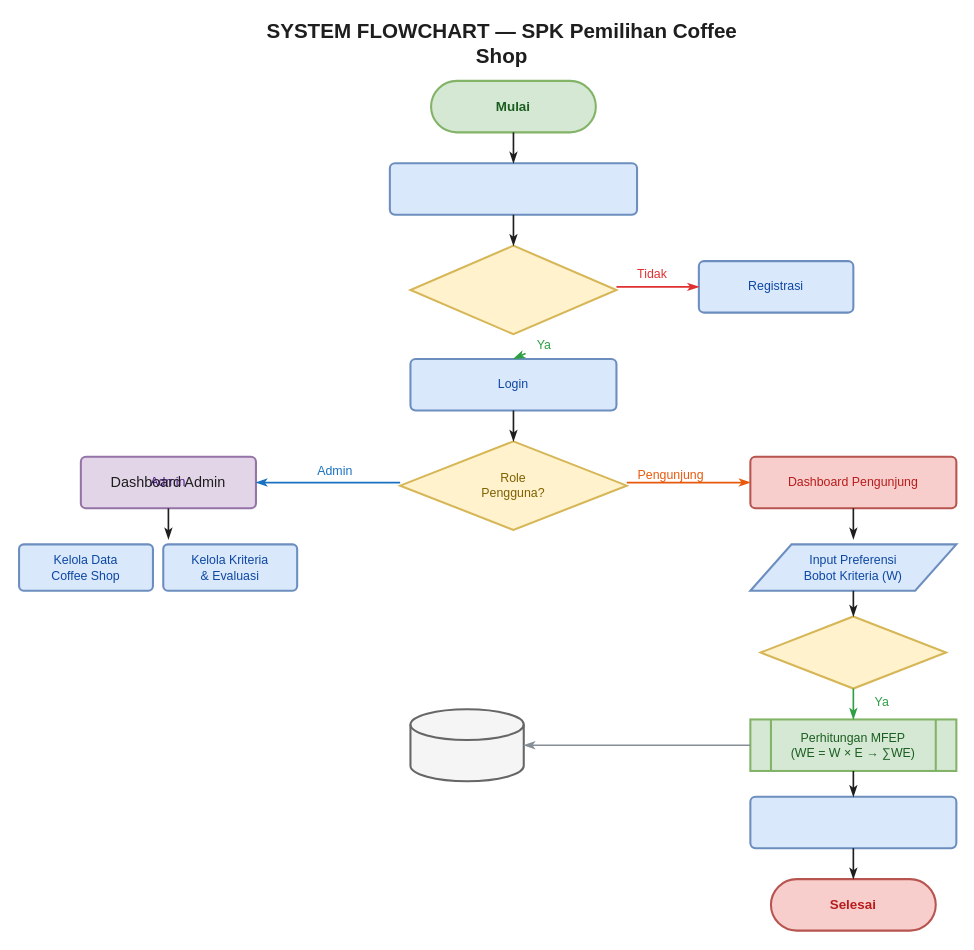
This 974x950 diagram has some shape labels left out. Here are the shapes that lost their labels. From the top down, the centre of each, then its label:
[513,188]: Pengguna Mengakses Sistem via Web Browser
[513,289]: Sudah Punya Akun?
[853,652]: ∑W = 1.00 ?
[466,745]: Database (PostgreSQL Neon.db)
[853,822]: Perangkingan & Tampilkan Rekomendasi
